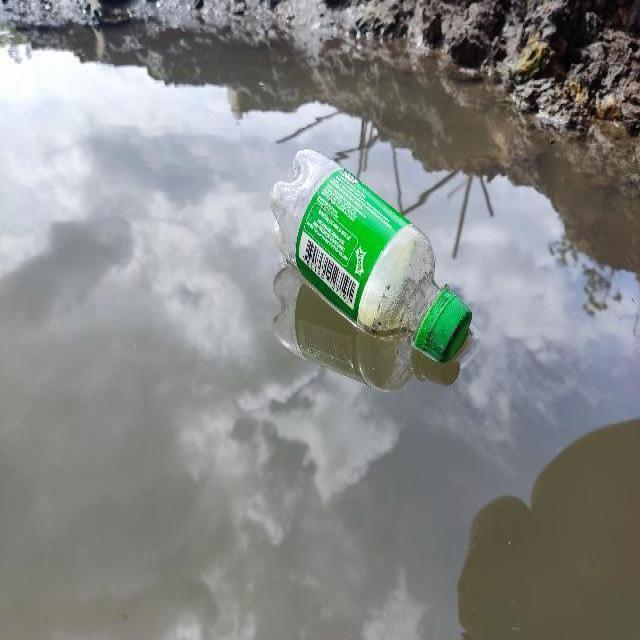Bottle: (262, 140, 481, 369)
